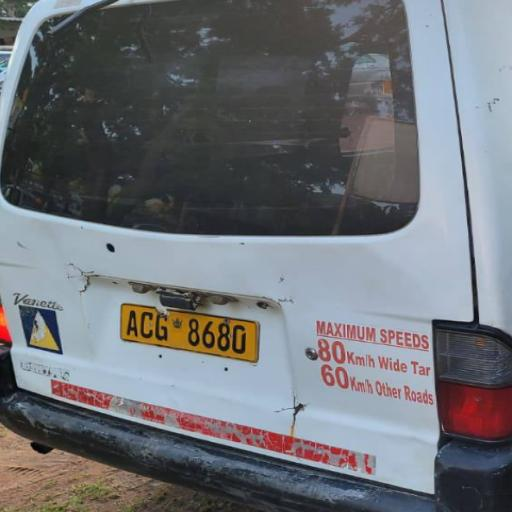number-plates: (113, 296, 250, 362)
